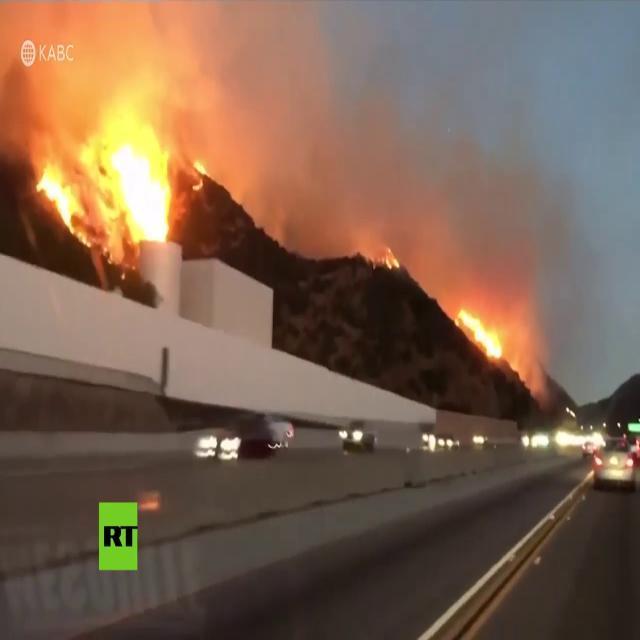Fire: (39, 128, 173, 252), (456, 310, 504, 360), (192, 156, 206, 192), (386, 252, 400, 273)
Smoke: (243, 5, 592, 256)
